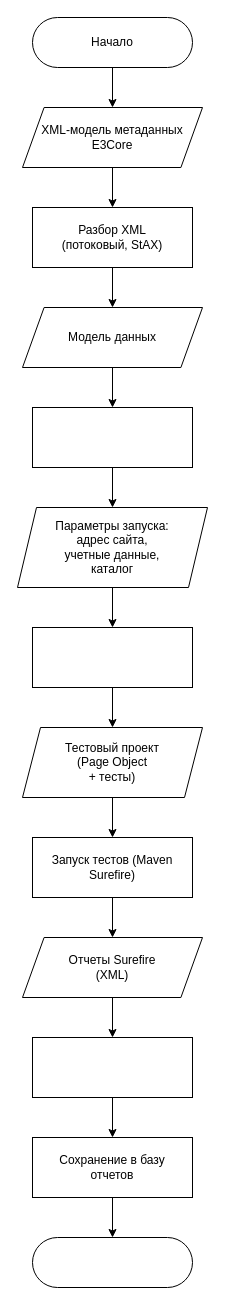
Image size: 225x1305. Some labels were removed from this diagram. The centre of each missing label's shape, as x and y in pixels:
Анализ результатов: point 112,1067
Генерация тестового проекта: point 112,657
Классификация сущностей: point 112,437
Конец: point 112,1262
